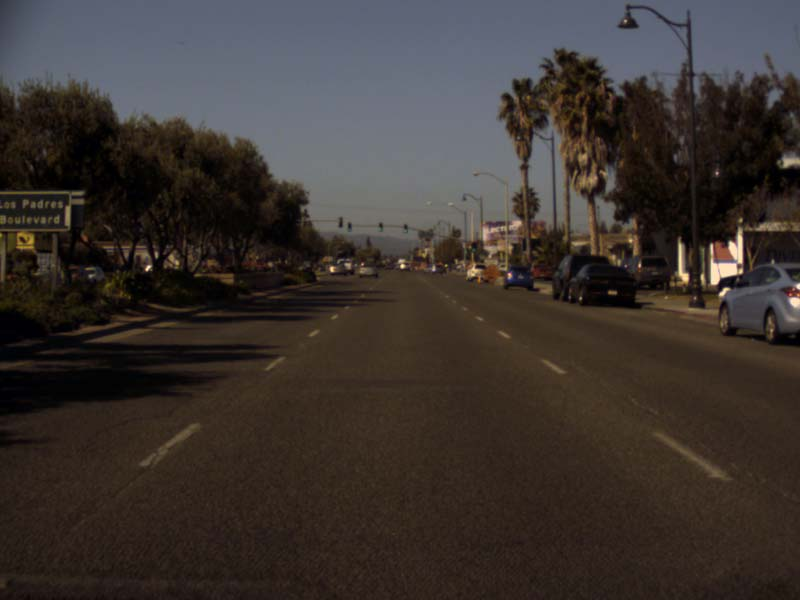Green: (471, 242, 477, 253), (378, 221, 383, 232), (403, 223, 408, 233), (347, 222, 352, 231)
